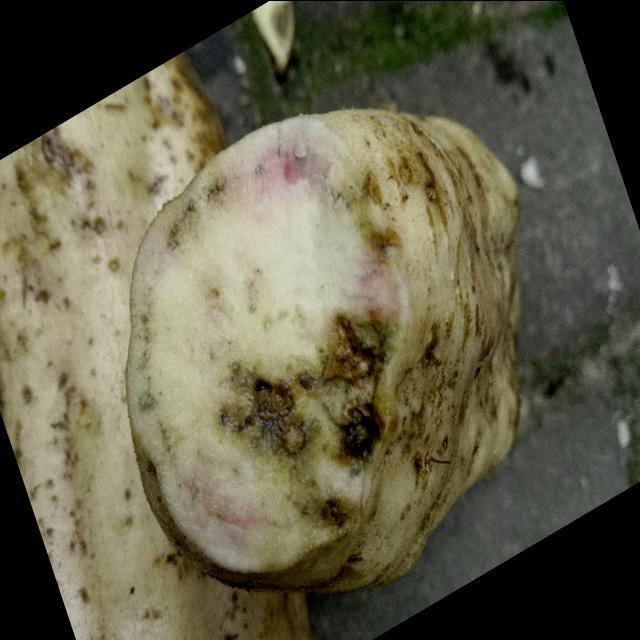Sick Sweet Potato_Tuber Rot: (126, 115, 409, 585)
